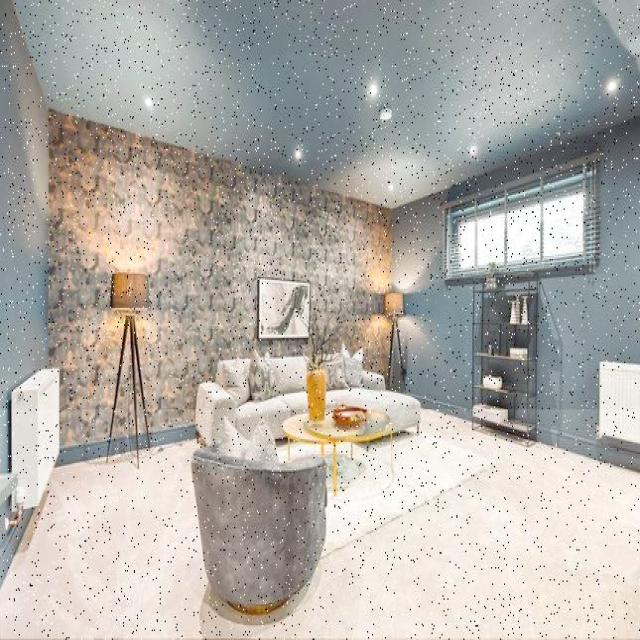Wall: (0, 0, 640, 470), (0, 410, 640, 639), (15, 1, 640, 205)
